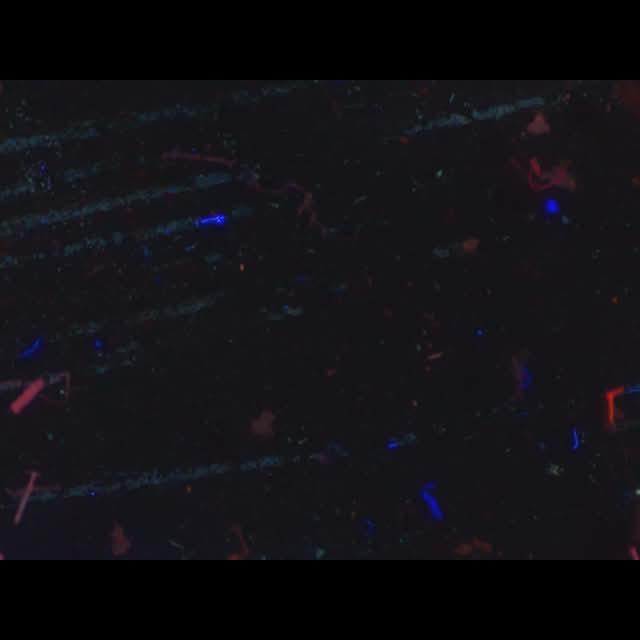Fragment: (10, 377, 46, 414)
